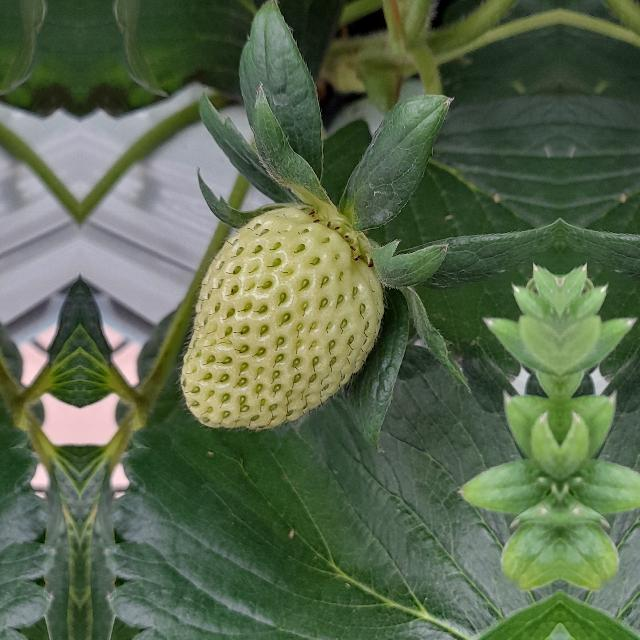Health_25: (180, 206, 384, 430)
